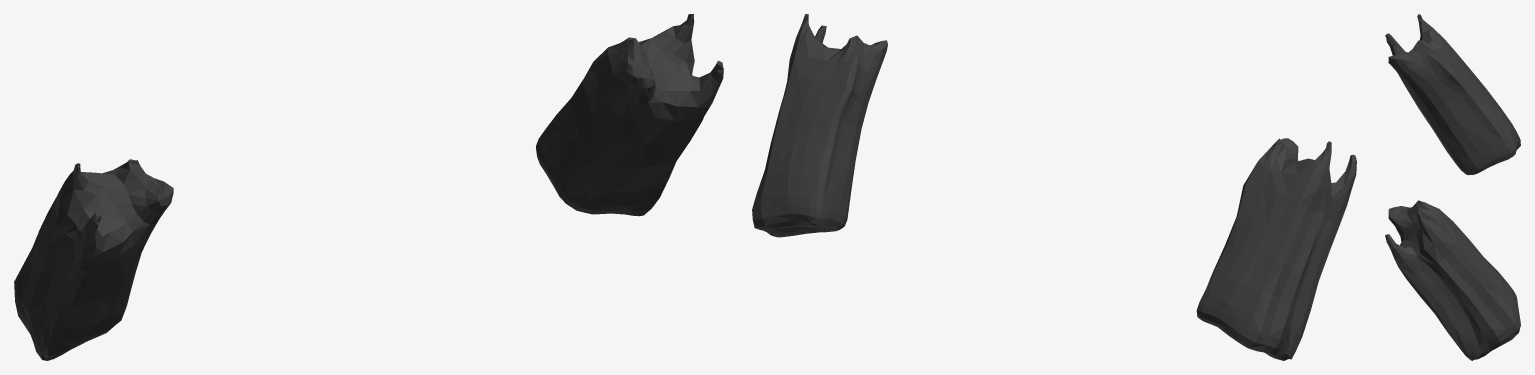
Rendered from R_max_M1_LO.glb.
3 renders of one model, left to right at view 1: azimuth 30°, elevation 25°; view 2: azimuth 150°, elevation 25°; view 3: azimuth 270°, elevation 25°, orthographic. The views are drawn at different scales.
Parts seen in each view (by area): view 1: R_max_M1_LO; view 2: R_max_M1_LO; view 3: R_max_M1_LO.
Part boxes in pixels (<box>): R_max_M1_LO: <box>14,14,723,360</box>; R_max_M1_LO: <box>752,14,1356,360</box>; R_max_M1_LO: <box>1385,14,1520,360</box>.
Bounding box in the file's own units: 0.00135 × 0.000461 × 0.000376.
Materials: 1 (1 with a texture image).
